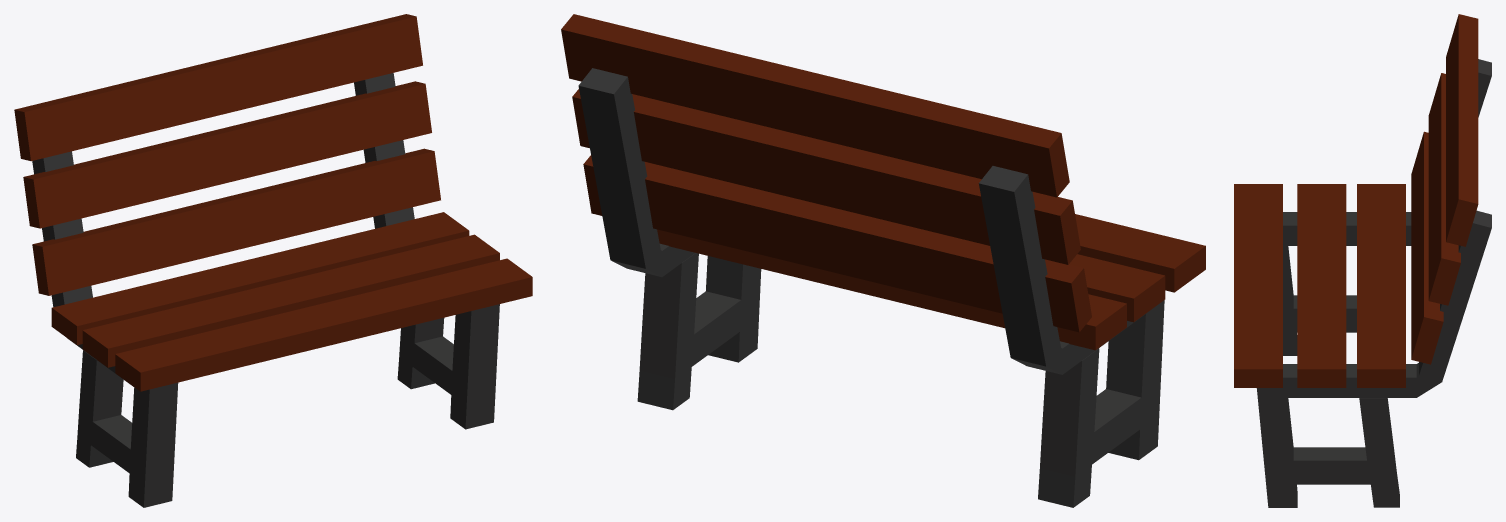
Rendered from Panchina.fbx.
3 renders of one model, left to right at view 1: azimuth 30°, elevation 25°; view 2: azimuth 150°, elevation 25°; view 3: azimuth 270°, elevation 25°, orthographic. The views are drawn at different scales.
Visible parts, largest first — view 1: Panchina; view 2: Panchina; view 3: Panchina.
Part boxes in pixels (left/top/right/bottom): Panchina: left=14, top=14, right=532, bottom=507; Panchina: left=561, top=14, right=1205, bottom=507; Panchina: left=1234, top=14, right=1491, bottom=507.
Size of the model in its own units: 1.48 by 1.19 by 0.8724.
